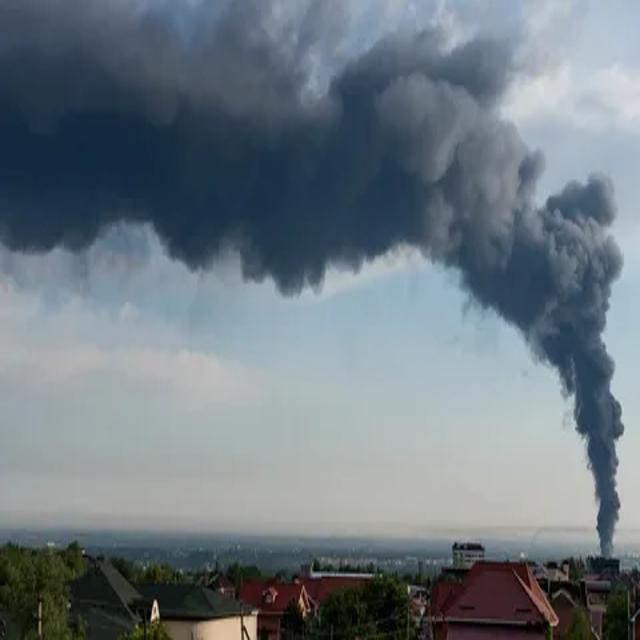Smoke: (1, 2, 626, 556)
